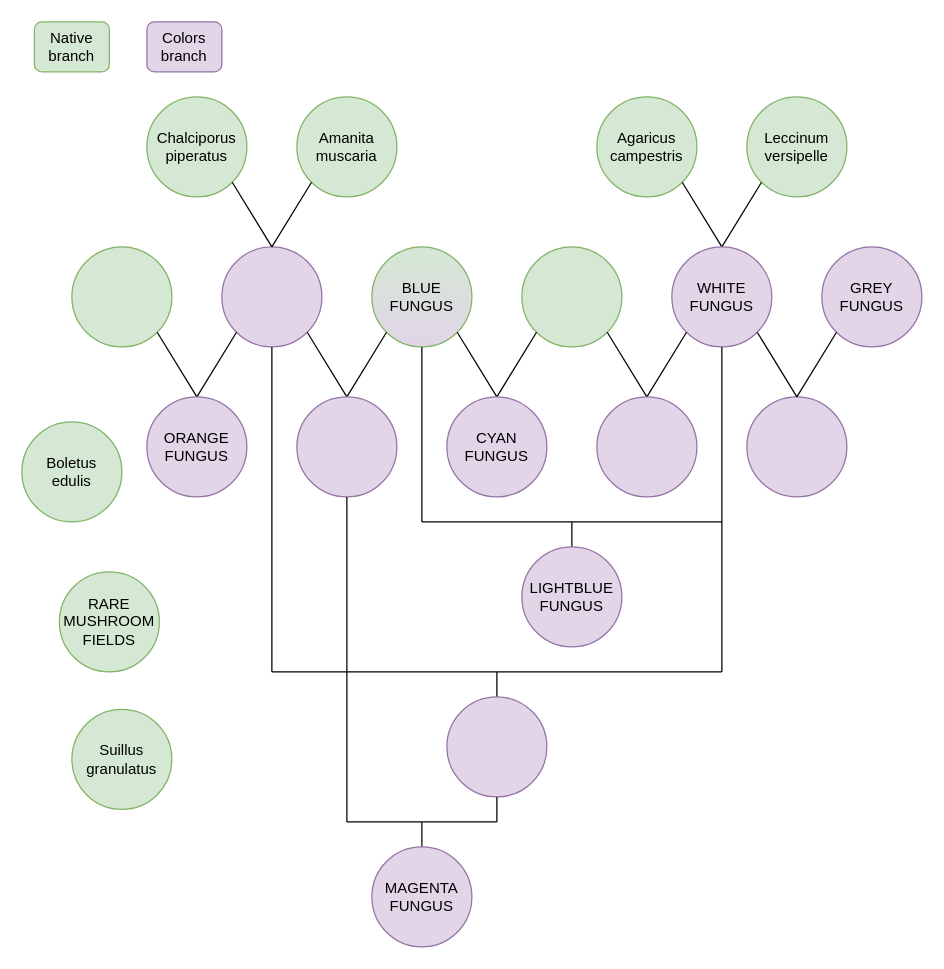
Image size: 944x969. Some labels were removed from this diagram. The shapes that lost their labels are listed below. From the top down, each one's centre as x and y in pixels, then its label:
At pixel 121 296: "YELLOW FUNGUS".
At pixel 271 296: "Amanita rubra".
At pixel 571 296: "Lactarius viridis".
At pixel 346 446: "VIOLET ovulus".
At pixel 646 446: "LIME FUNGUS".
At pixel 796 446: "LIGHTGREY FUNGUS".
At pixel 496 746: "PINK FUNGUS".
